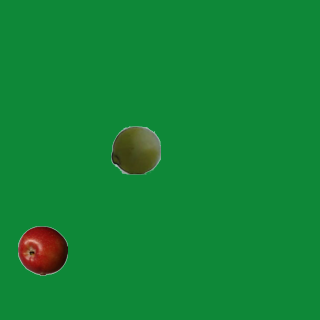Apple Braeburn: (17, 225, 67, 275)
Grape White 4: (110, 124, 160, 174)
